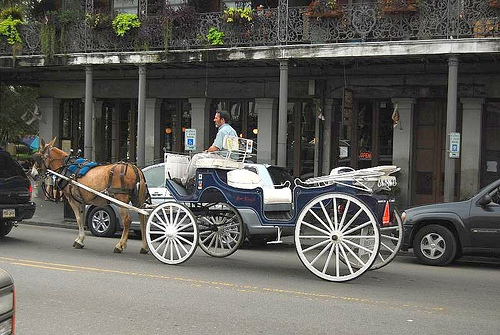horse: (32, 136, 153, 254)
